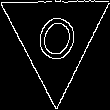O_SW: (28, 4, 83, 70)
